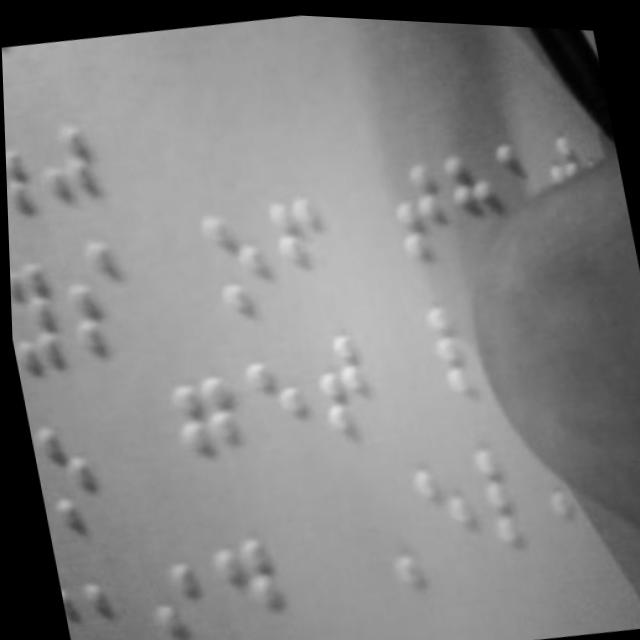braiile: (162, 363, 248, 497), (58, 403, 143, 536), (460, 424, 548, 552), (236, 341, 318, 474), (53, 234, 134, 364), (258, 182, 338, 311), (192, 199, 271, 322), (201, 527, 285, 640), (401, 448, 479, 568), (416, 288, 502, 396), (304, 317, 378, 442), (375, 153, 452, 264), (7, 252, 70, 379), (130, 552, 214, 640), (26, 428, 78, 546), (77, 567, 144, 640), (55, 585, 94, 640)
